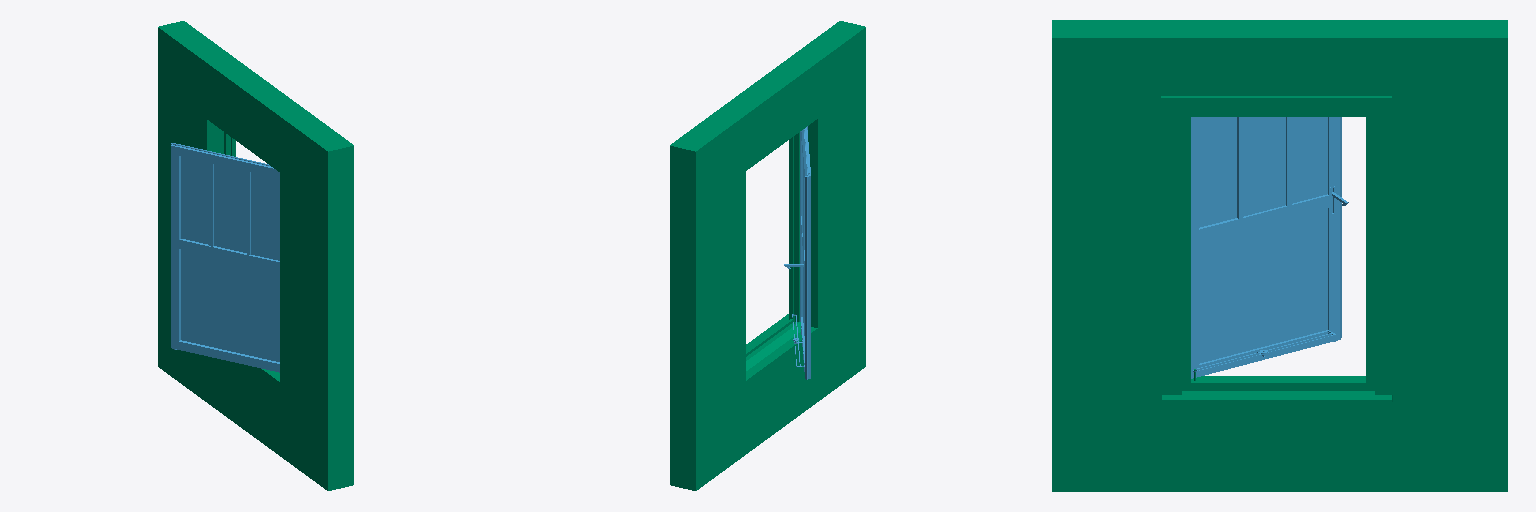
robot.urdf — partnet_5105a0d1708d68b8f1e469951909c218:
<?xml version="1.0" ?>
<robot name="partnet_5105a0d1708d68b8f1e469951909c218">
	<link name="base"/>
	<link name="link_0">
		<visual name="rotation-1">
			<origin xyz="-0.28256573651531514 -0.7567589999999997 0.029760916668331368"/>
			<geometry>
				<mesh filename="textured_objs/original-5.obj"/>
			</geometry>
		</visual>
		<visual name="rotation-1">
			<origin xyz="-0.28256573651531514 -0.7567589999999997 0.029760916668331368"/>
			<geometry>
				<mesh filename="textured_objs/original-4.obj"/>
			</geometry>
		</visual>
		<visual name="rotation-1">
			<origin xyz="-0.28256573651531514 -0.7567589999999997 0.029760916668331368"/>
			<geometry>
				<mesh filename="textured_objs/original-2.obj"/>
			</geometry>
		</visual>
		<collision>
			<origin xyz="-0.28256573651531514 -0.7567589999999997 0.029760916668331368"/>
			<geometry>
				<mesh filename="textured_objs/original-5.obj"/>
			</geometry>
		</collision>
		<collision>
			<origin xyz="-0.28256573651531514 -0.7567589999999997 0.029760916668331368"/>
			<geometry>
				<mesh filename="textured_objs/original-4.obj"/>
			</geometry>
		</collision>
		<collision>
			<origin xyz="-0.28256573651531514 -0.7567589999999997 0.029760916668331368"/>
			<geometry>
				<mesh filename="textured_objs/original-2.obj"/>
			</geometry>
		</collision>
	</link>
	<joint name="joint_0" type="revolute">
		<origin xyz="0.28256573651531514 0.7567589999999997 -0.029760916668331368"/>
		<axis xyz="0 -1 0"/>
		<child link="link_0"/>
		<parent link="link_1"/>
		<limit lower="-1.049291946298991" upper="2.0169024836046465"/>
	</joint>
	<link name="link_1">
		<visual name="base_body-2">
			<origin xyz="0 0 0"/>
			<geometry>
				<mesh filename="textured_objs/original-3.obj"/>
			</geometry>
		</visual>
		<visual name="base_body-2">
			<origin xyz="0 0 0"/>
			<geometry>
				<mesh filename="textured_objs/original-1.obj"/>
			</geometry>
		</visual>
		<collision>
			<origin xyz="0 0 0"/>
			<geometry>
				<mesh filename="textured_objs/original-3.obj"/>
			</geometry>
		</collision>
		<collision>
			<origin xyz="0 0 0"/>
			<geometry>
				<mesh filename="textured_objs/original-1.obj"/>
			</geometry>
		</collision>
	</link>
	<joint name="joint_1" type="fixed">
		<origin rpy="1.570796326794897 0 -1.570796326794897" xyz="0 0 0"/>
		<child link="link_1"/>
		<parent link="base"/>
	</joint>
</robot>

--- Facts derived from the render (not from the file) ---
Views: 3 orthographic renders of the robot side by side, from view 1: azimuth 30°, elevation 25°; view 2: azimuth 150°, elevation 25°; view 3: azimuth 270°, elevation 25°.
Robot: partnet_5105a0d1708d68b8f1e469951909c218 — 3 links, 2 joints (1 revolute, 1 fixed); root link base; default pose: all joints at 0.
Visible links, largest first — view 1: link_1, link_0; view 2: link_1, link_0; view 3: link_1, link_0.
Boxes of the visible links, x1,y1,x2,y2 form: link_1: [158, 21, 353, 490]; link_0: [171, 143, 279, 372]; link_1: [670, 21, 865, 490]; link_0: [784, 126, 810, 379]; link_1: [1052, 20, 1507, 491]; link_0: [1191, 117, 1348, 378].
Size in the robot's own frame: 0.4069 by 1.37 by 1.5 metres.
5 mesh visuals loaded from 5 distinct referenced files (5 OBJ).
